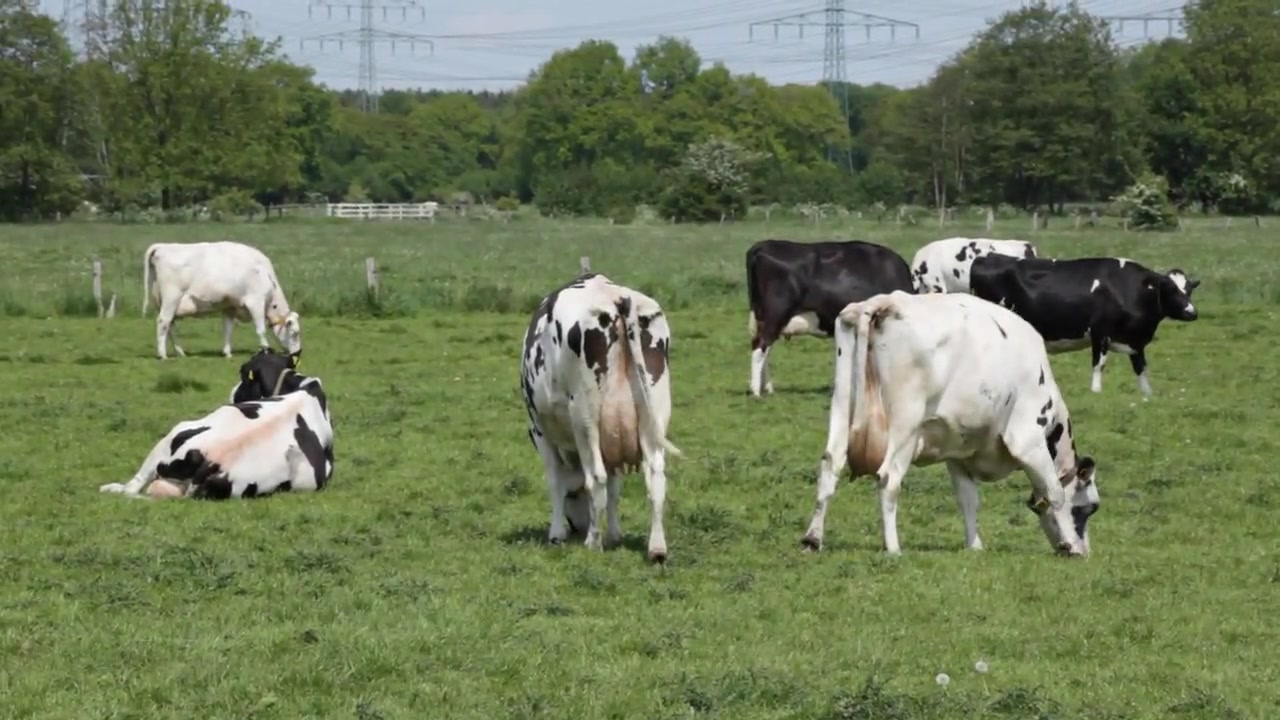cow: (797, 287, 1103, 566)
